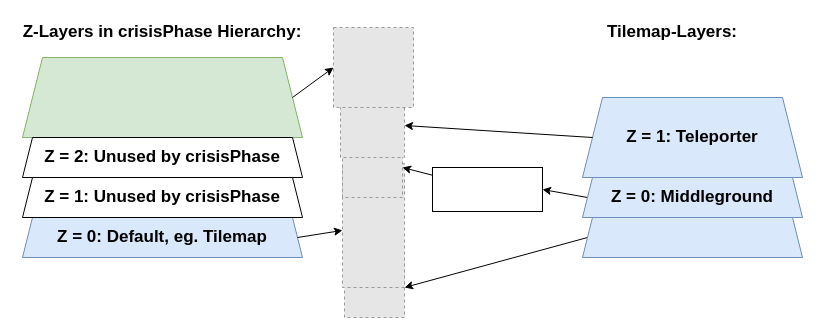
The diagram is 820 pixels wide and 335 high, and some of its shapes have lost their labels. Grey dashed boxes stand in for pictures. Here are the shapes that lost their labels. From the top down, the centre of each, then its label:
the point at 162,97: Z = 3: GUI
the point at 487,189: Individual Z-Index Overwrite: Z = 1
the point at 692,237: Z = 0: Background
